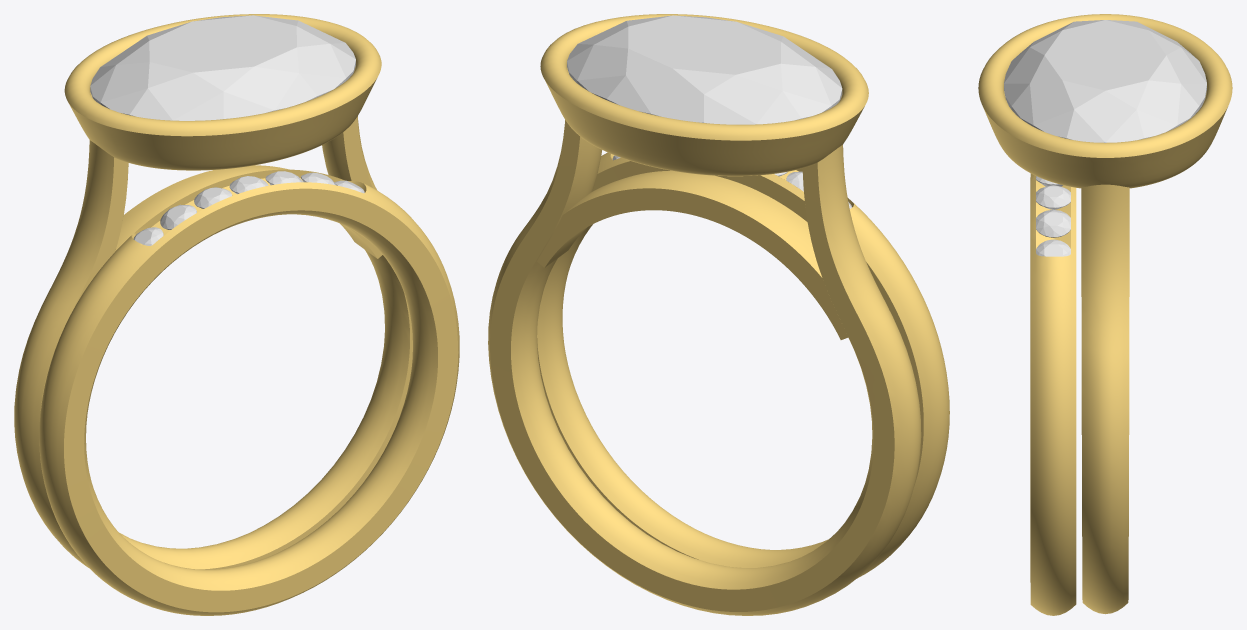
Rendered from BrendanV1lowdia_blender.glb.
3 views of the same model, side by side, from view 1: azimuth 30°, elevation 25°; view 2: azimuth 150°, elevation 25°; view 3: azimuth 270°, elevation 25° (orthographic). The views are drawn at different scales.
Visible parts, largest first — view 1: V1 hers YG for 3d model, her center dia only; view 2: V1 hers YG for 3d model, her center dia only; view 3: V1 hers YG for 3d model, her center dia only, V1 hers dia for 3d model.005, V1 hers dia for 3d model.004, V1 hers dia for 3d model.006.
Boxes of the visible parts, bbox=[...] form: V1 hers YG for 3d model: bbox=[14, 14, 459, 615]; her center dia only: bbox=[90, 15, 355, 120]; V1 hers YG for 3d model: bbox=[488, 14, 949, 615]; her center dia only: bbox=[567, 15, 842, 124]; V1 hers YG for 3d model: bbox=[978, 14, 1232, 615]; her center dia only: bbox=[1004, 20, 1206, 142]; V1 hers dia for 3d model.005: bbox=[1036, 209, 1070, 237]; V1 hers dia for 3d model.004: bbox=[1036, 185, 1070, 209]; V1 hers dia for 3d model.006: bbox=[1036, 239, 1070, 256].
Size of the model in its own units: 18.58 by 23.39 by 10.
